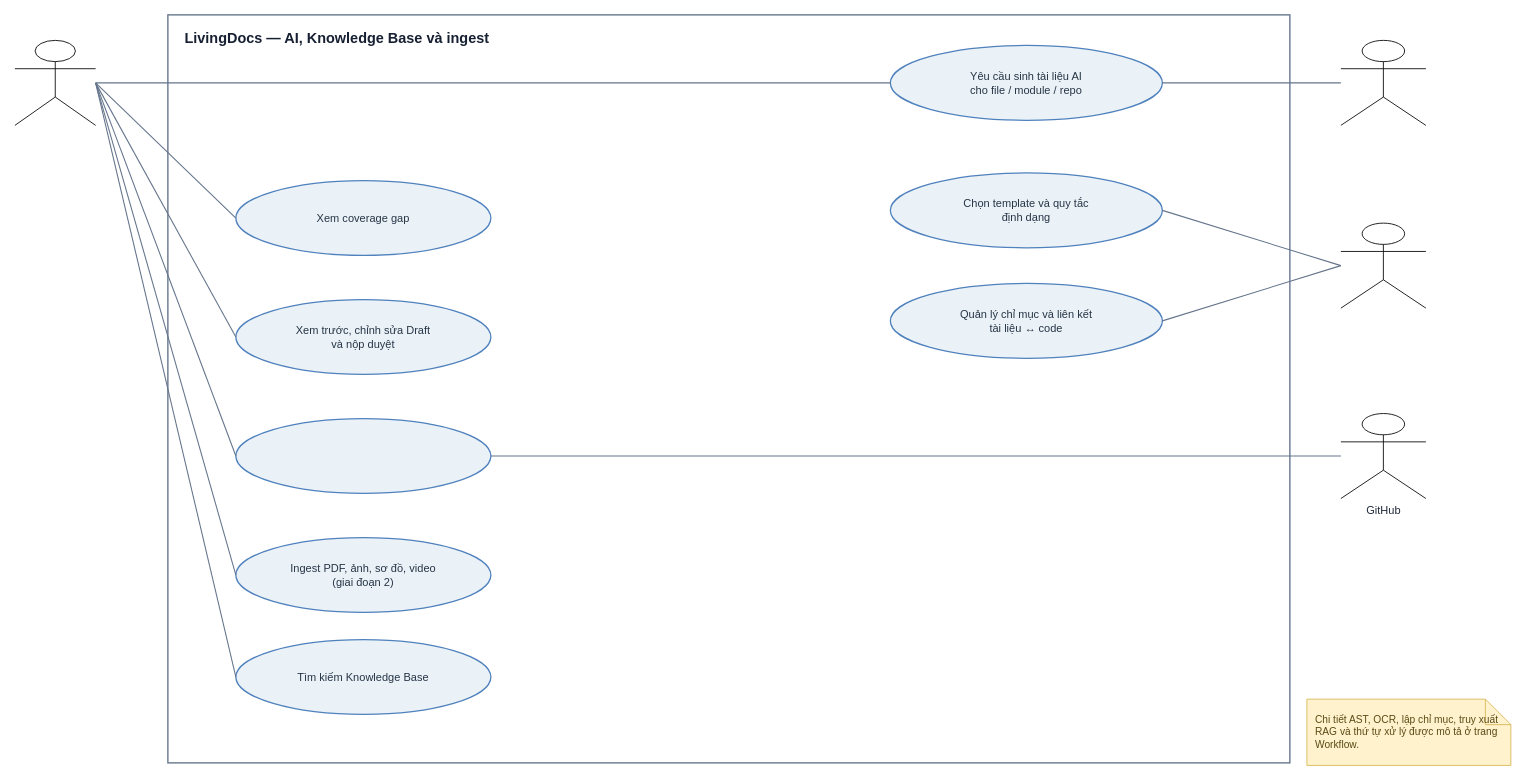
The diagram is 1526 pixels wide and 781 high, and some of its shapes have lost their labels. Here are the shapes that lost their labels. From the top down, the centre of each, then its label:
the point at 55,82: Developer
the point at 1383,82: LLM Provider
the point at 1383,265: Technical Lead
the point at 363,456: Ingest Markdown từ repository
